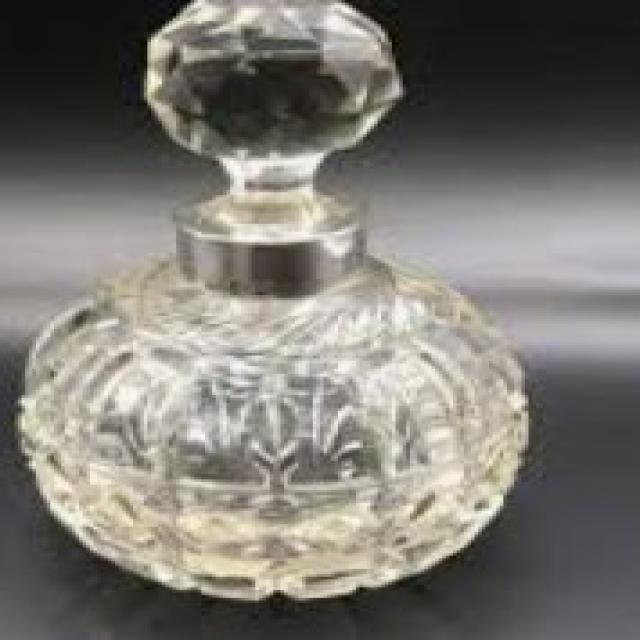electronic: (20, 2, 536, 606)
